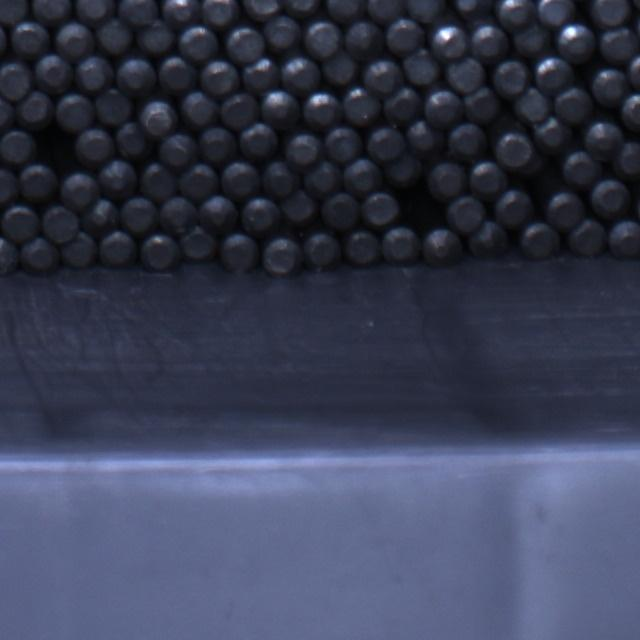tool: (554, 20, 596, 61), (426, 16, 468, 56), (117, 56, 158, 96), (590, 178, 631, 218), (138, 96, 180, 135), (424, 88, 464, 128), (261, 88, 301, 128), (341, 85, 381, 125), (495, 188, 535, 228), (582, 120, 622, 160), (469, 159, 509, 199), (221, 160, 262, 199), (467, 222, 509, 260), (381, 226, 420, 266), (15, 90, 55, 129), (35, 52, 74, 92), (179, 23, 219, 62), (226, 24, 265, 64), (219, 232, 259, 271), (60, 169, 100, 208), (428, 160, 468, 199), (198, 195, 238, 234), (422, 227, 462, 266), (75, 126, 115, 165), (382, 86, 422, 125), (406, 119, 446, 158), (520, 222, 561, 260), (1, 203, 40, 242), (54, 22, 93, 61), (470, 23, 509, 62), (590, 67, 629, 106), (177, 163, 217, 201), (18, 164, 58, 202), (221, 92, 261, 130), (385, 18, 425, 56), (344, 21, 384, 59), (304, 18, 342, 58), (158, 54, 198, 92), (262, 160, 302, 198), (140, 232, 180, 270), (568, 219, 608, 257), (100, 162, 138, 202), (303, 90, 343, 128), (545, 190, 585, 228), (364, 56, 404, 94), (282, 130, 322, 168), (534, 117, 575, 154), (55, 92, 94, 130), (322, 192, 361, 230), (535, 56, 574, 94), (302, 231, 340, 270), (98, 230, 137, 268), (200, 59, 240, 96), (446, 55, 486, 92), (74, 56, 114, 93), (280, 56, 320, 93), (238, 123, 278, 160), (324, 125, 364, 162), (198, 126, 238, 163), (18, 236, 58, 273), (562, 151, 602, 188), (384, 152, 424, 189), (41, 204, 79, 242), (491, 59, 529, 97), (95, 88, 133, 126), (496, 129, 534, 167), (242, 196, 280, 234), (160, 196, 198, 234), (264, 235, 302, 273), (139, 165, 177, 203), (243, 56, 281, 94), (446, 195, 485, 232), (95, 18, 134, 55), (465, 85, 504, 122), (306, 163, 345, 200), (136, 16, 176, 52), (344, 161, 382, 198), (120, 197, 158, 234), (12, 21, 50, 58), (514, 87, 552, 124), (180, 91, 218, 128), (342, 229, 379, 267), (600, 25, 638, 62), (280, 190, 318, 227), (403, 48, 442, 84), (447, 123, 486, 159), (78, 198, 117, 234), (554, 85, 592, 121), (0, 128, 36, 166), (360, 191, 398, 227), (264, 13, 302, 49), (59, 231, 97, 267), (366, 126, 404, 162), (159, 131, 198, 166), (178, 226, 217, 261), (512, 22, 552, 56), (321, 50, 358, 86), (116, 122, 151, 159), (0, 60, 32, 100), (495, 0, 537, 30), (609, 220, 640, 258), (31, 0, 72, 25), (535, 0, 574, 26), (75, 0, 117, 24), (119, 0, 159, 25), (162, 0, 202, 25), (201, 0, 239, 26), (326, 0, 370, 22), (407, 0, 447, 22), (367, 0, 407, 22), (616, 140, 640, 176), (240, 0, 283, 19), (596, 0, 632, 22), (0, 234, 19, 275), (621, 92, 640, 132), (280, 0, 322, 17), (0, 0, 29, 24), (0, 166, 17, 206), (627, 52, 640, 94), (0, 95, 14, 132), (0, 20, 7, 61)
